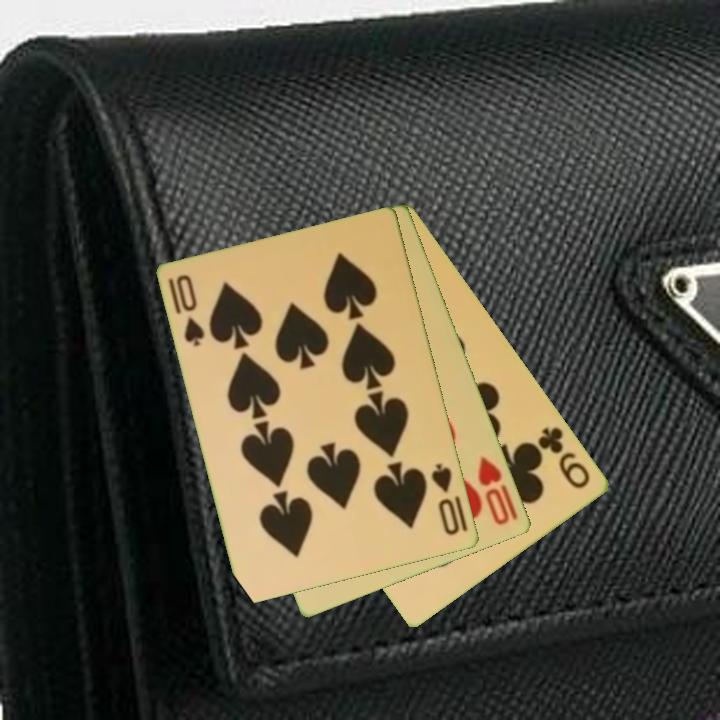10h: (475, 452, 521, 528)
10s: (165, 271, 208, 350), (428, 460, 463, 539)
9c: (535, 423, 594, 492)
